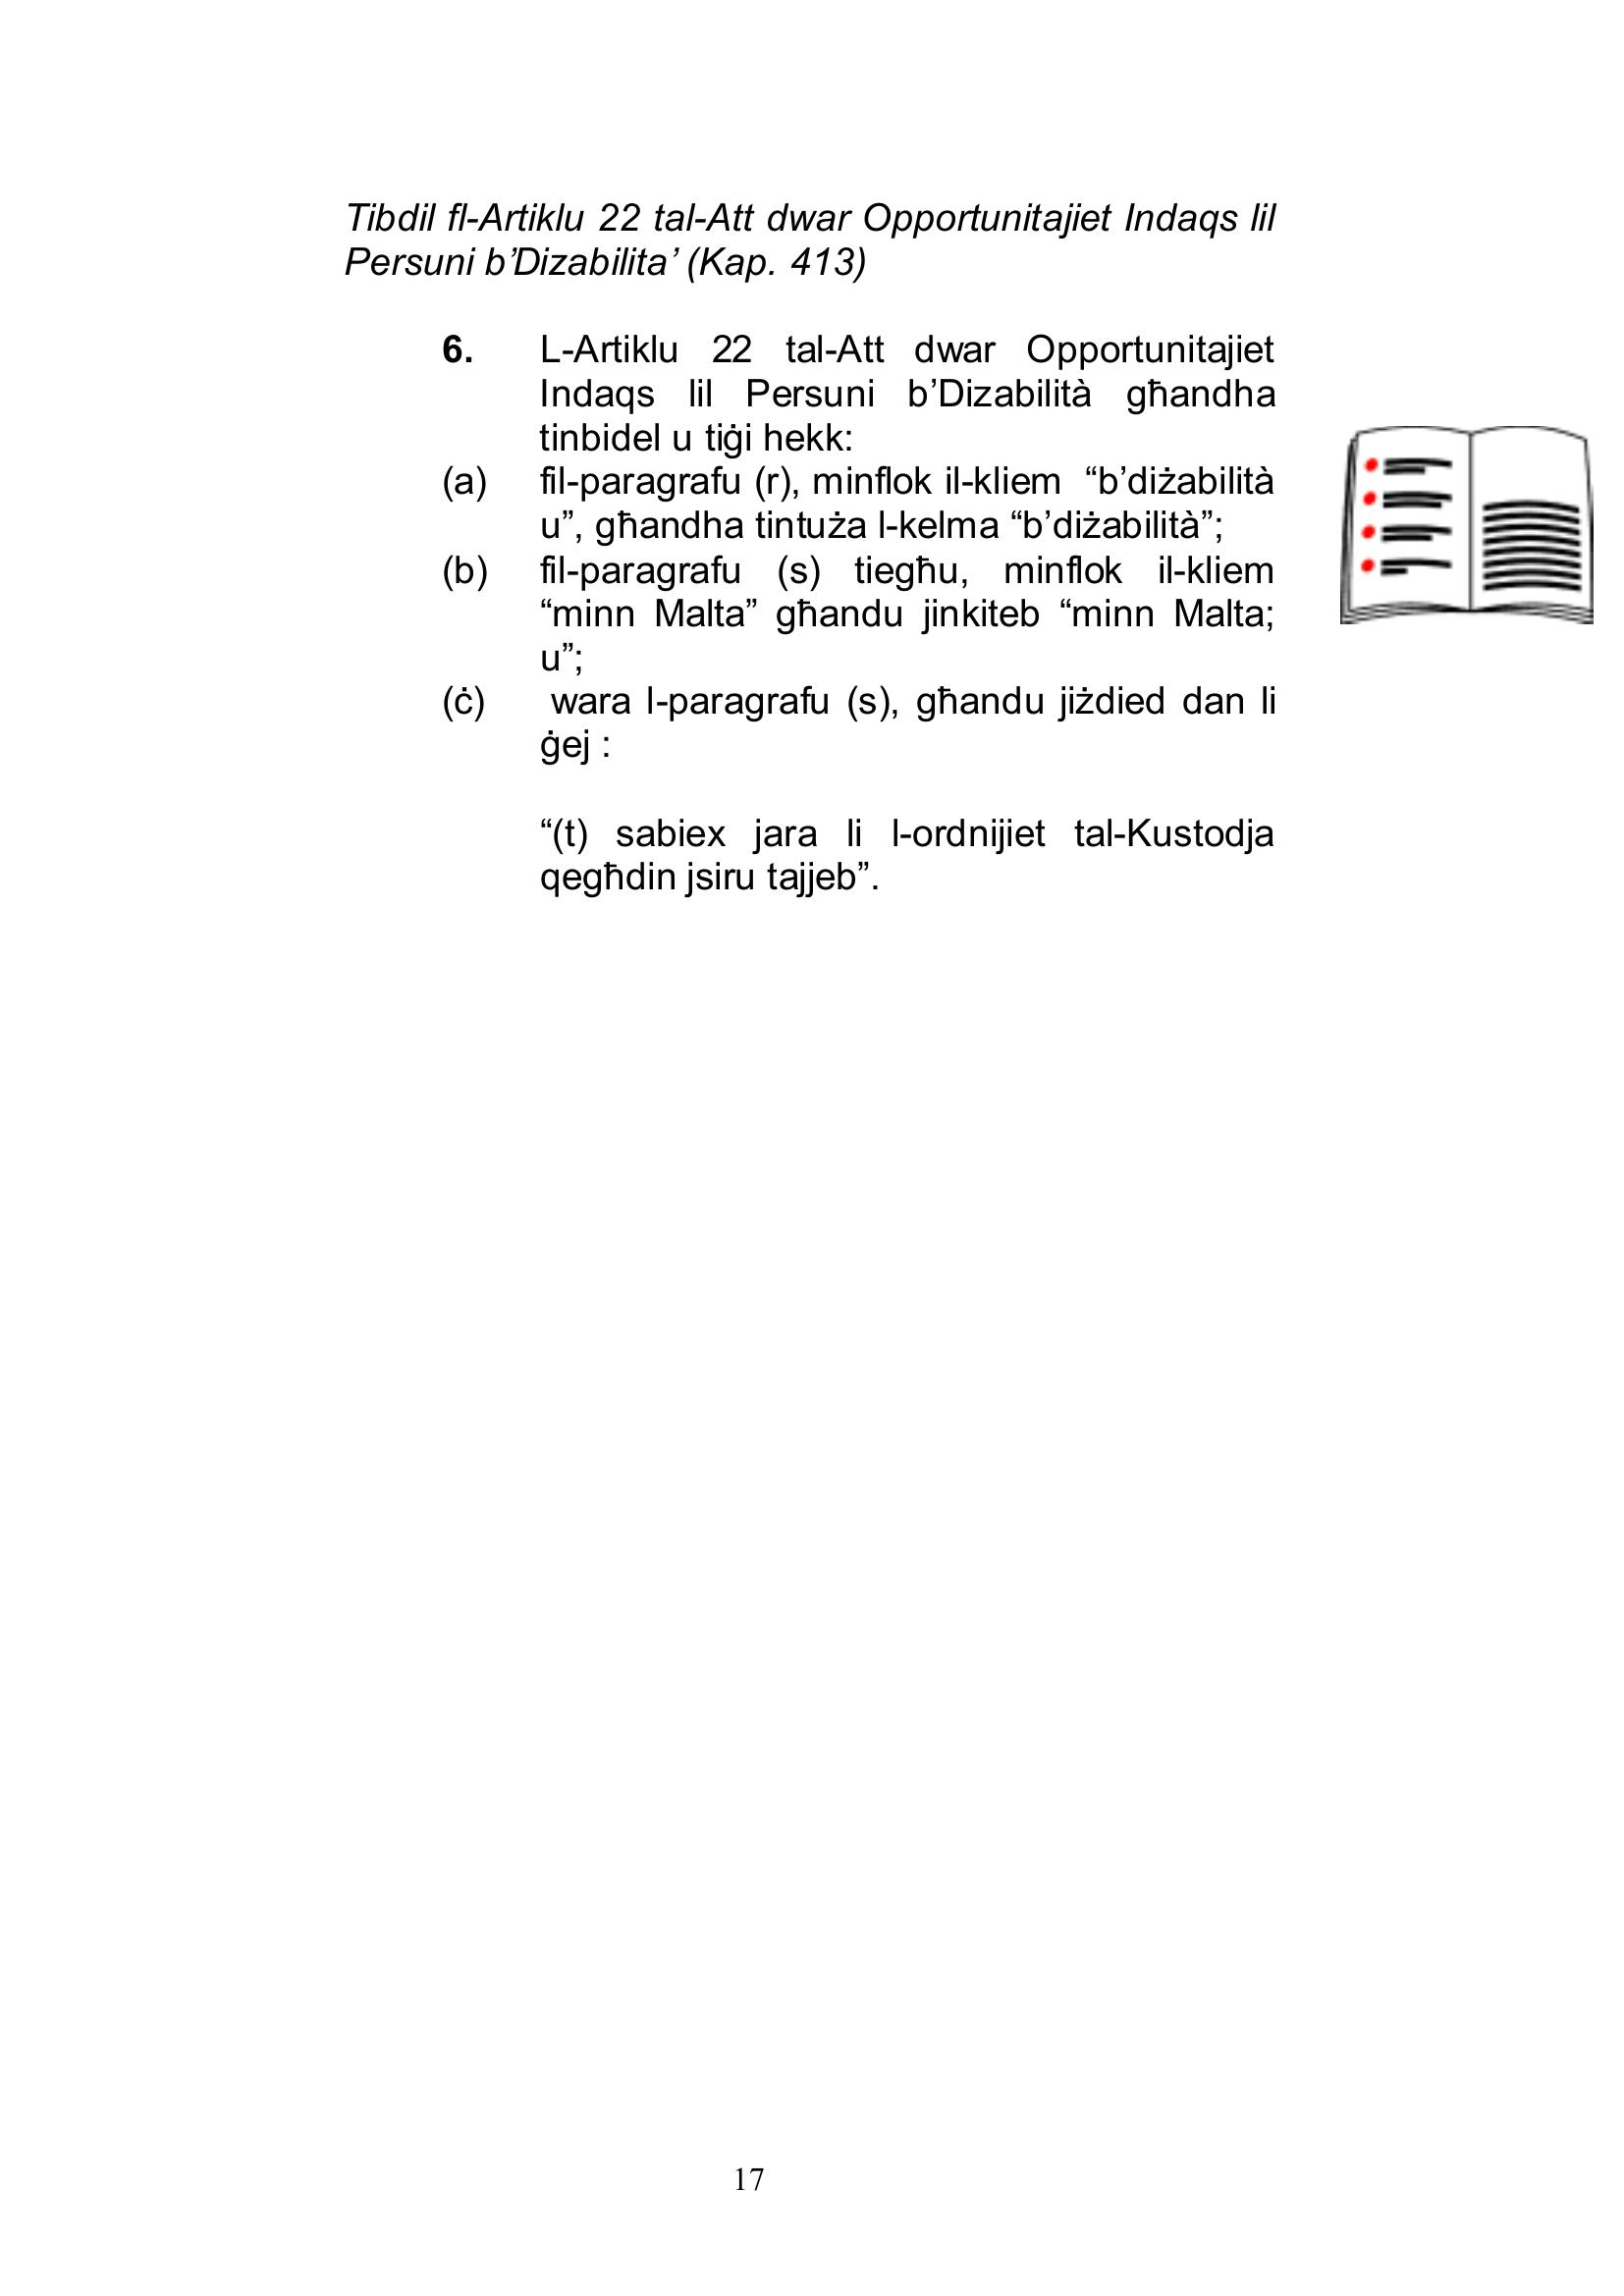text: (322, 177, 1311, 929)
